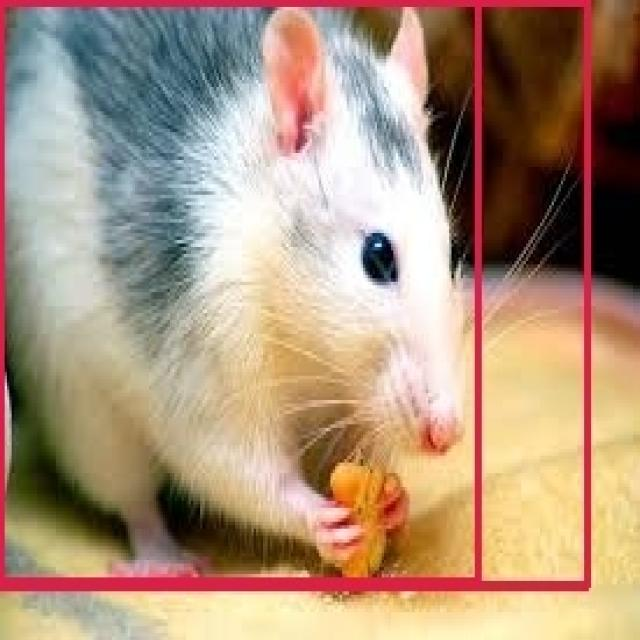rat: (0, 0, 584, 581), (0, 0, 475, 577)
